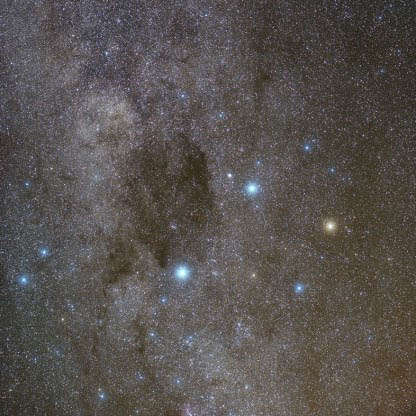Southern Cross: (286, 273, 312, 302), (240, 178, 265, 204), (318, 214, 344, 239), (171, 258, 193, 286)
